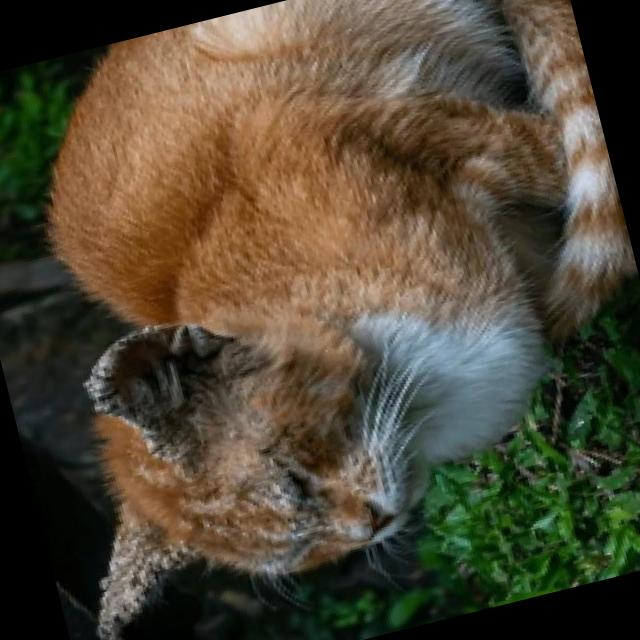Mange: (77, 321, 235, 458), (98, 523, 181, 639), (282, 488, 336, 552)
